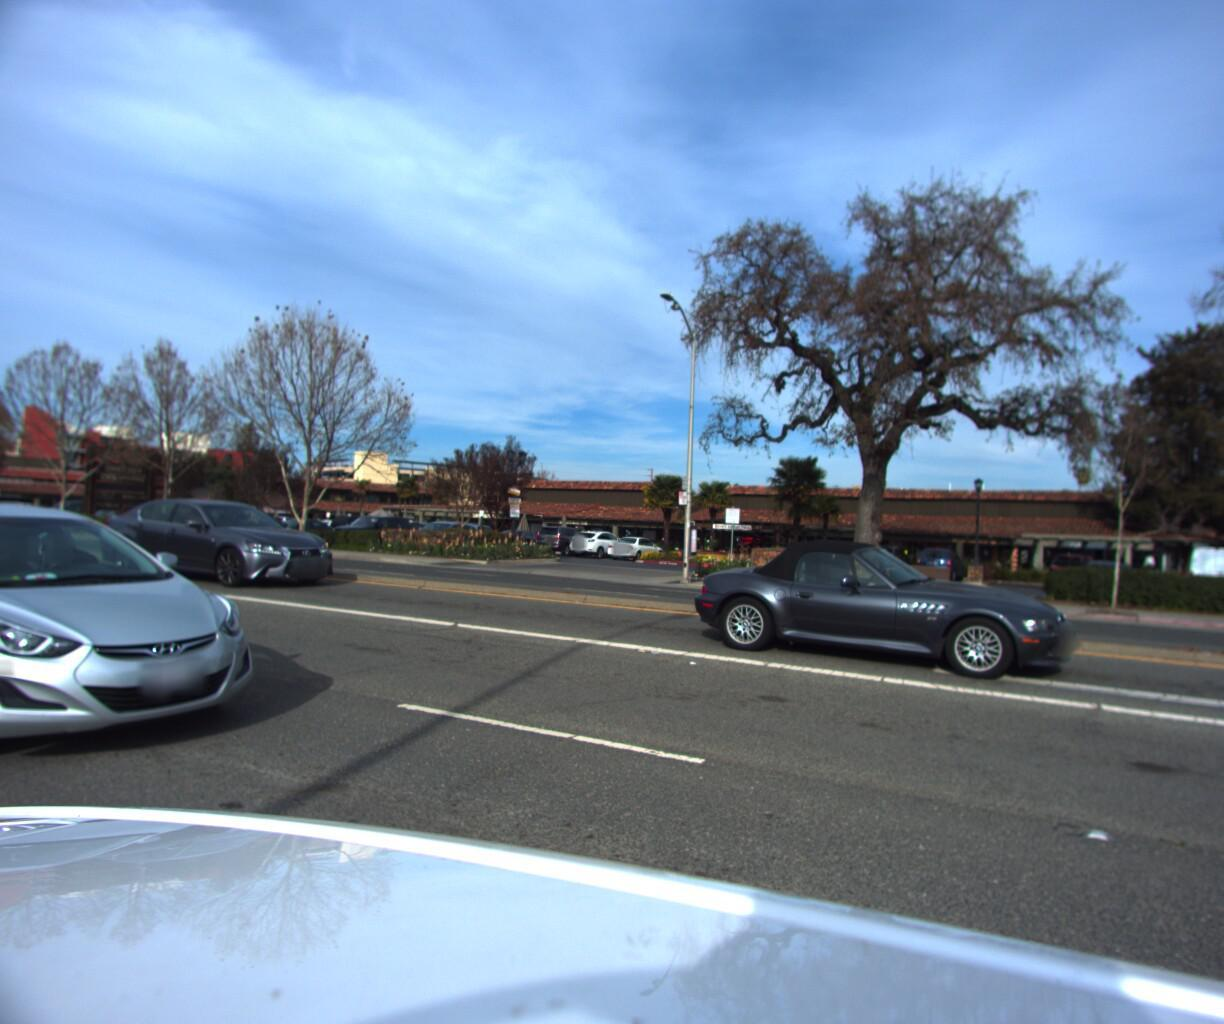car: (682, 527, 1078, 681), (90, 498, 352, 592), (397, 517, 485, 558)
